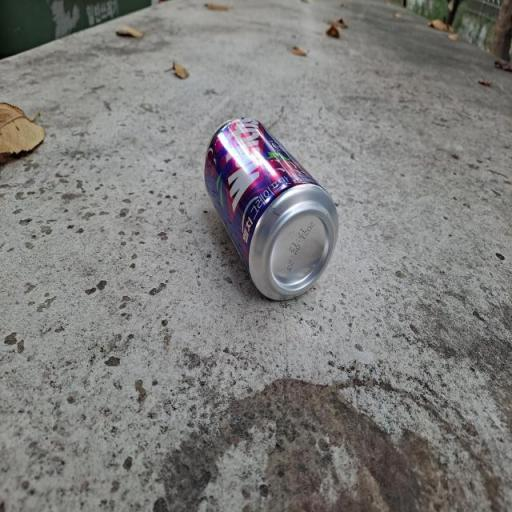metal: (177, 77, 380, 338)
